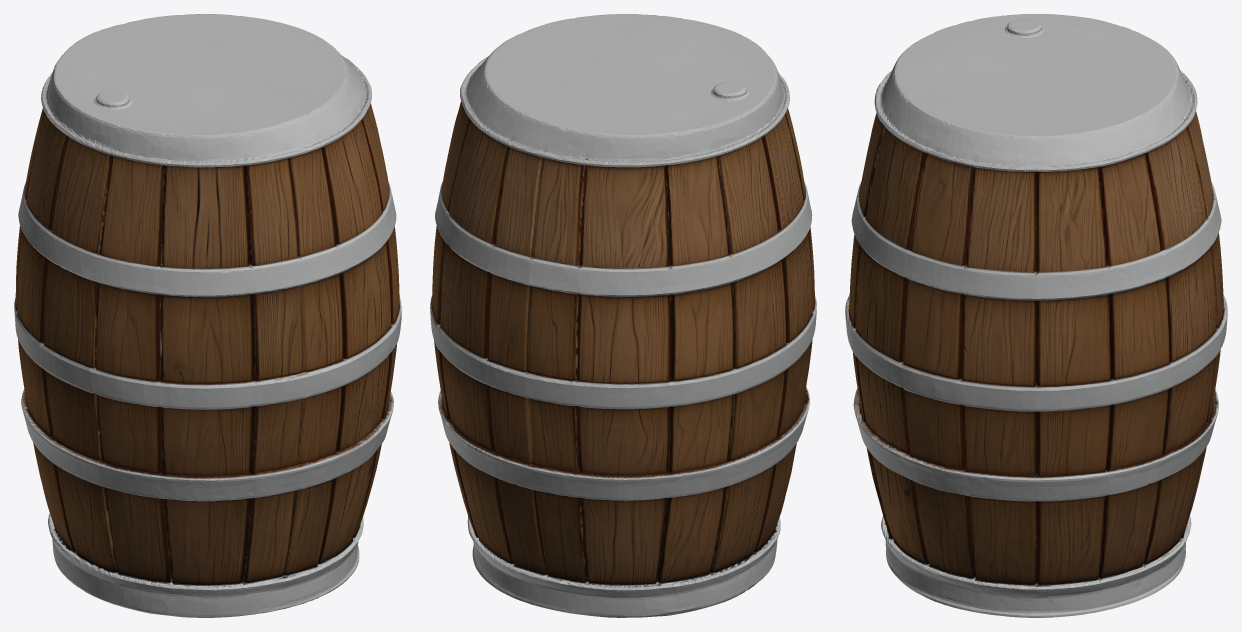
Rendered from barrel.glb.
The picture shows the model from 3 angles, left to right: view 1: azimuth 30°, elevation 25°; view 2: azimuth 150°, elevation 25°; view 3: azimuth 270°, elevation 25°; orthographic projection.
Visible parts, largest first — view 1: textured_mesh.obj; view 2: textured_mesh.obj; view 3: textured_mesh.obj.
Boxes of the visible parts, bbox=[...] form: textured_mesh.obj: bbox=[14, 14, 401, 617]; textured_mesh.obj: bbox=[430, 14, 816, 617]; textured_mesh.obj: bbox=[845, 14, 1227, 617].
Bounding box in the file's own units: 1.42 × 1.98 × 1.43.
1 material, 1 textured.
